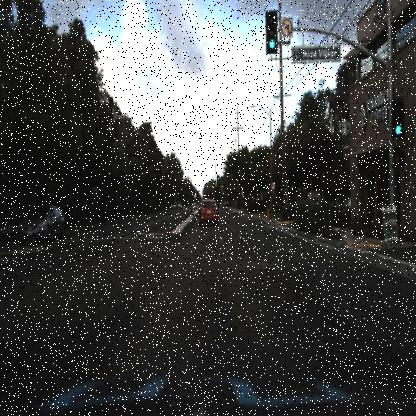car: (17, 202, 65, 250), (197, 198, 221, 230)
